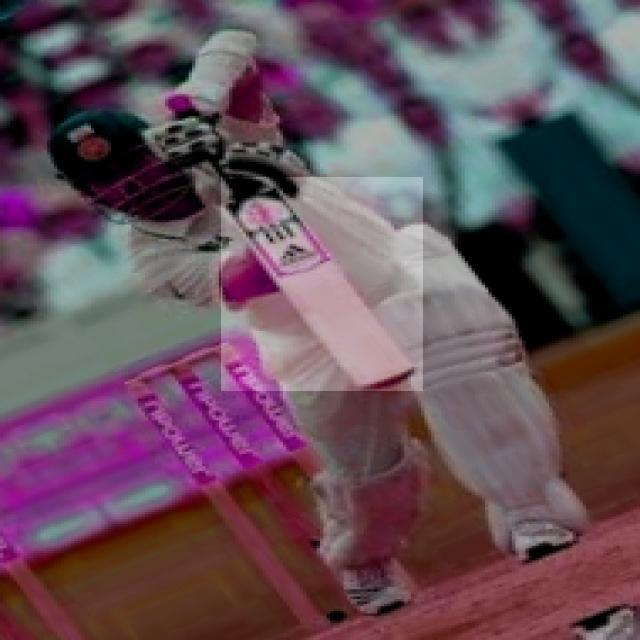bat: (221, 175, 423, 392)
toe: (368, 366, 415, 395)
